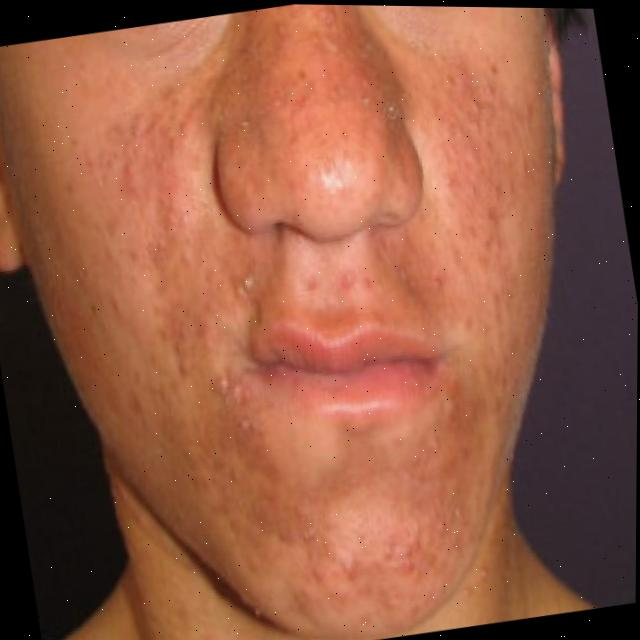Acne: (71, 52, 550, 629)
